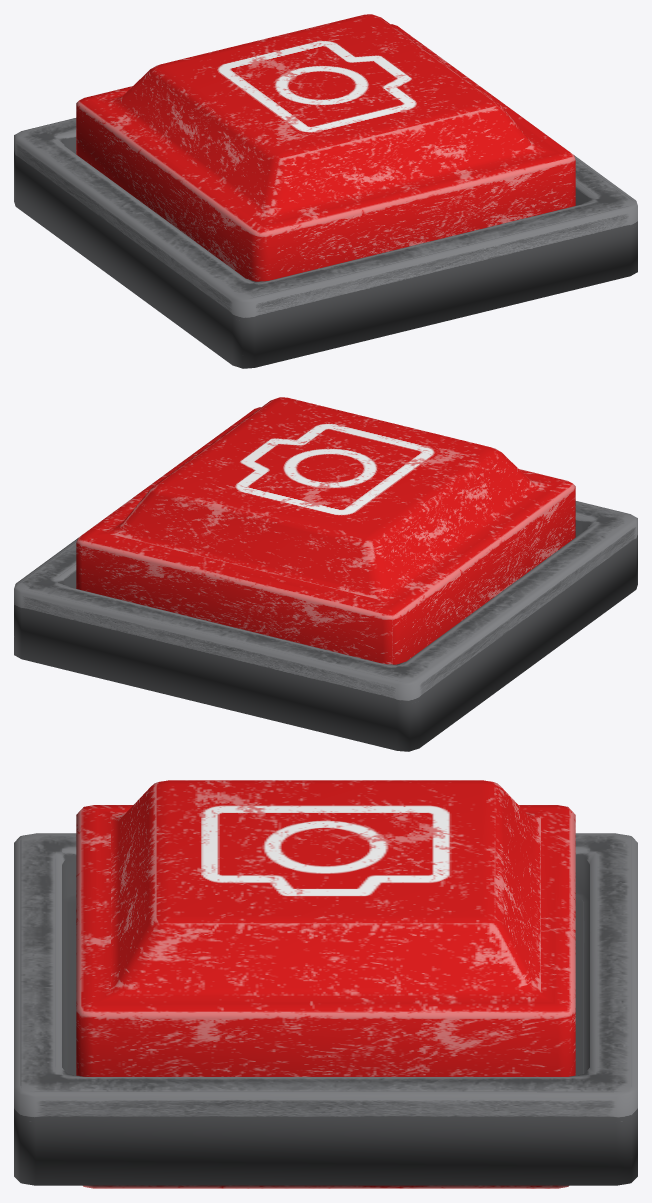
The model's file is PrtSc1.fbx.
3 renders of one model, top to bottom at view 1: azimuth 30°, elevation 25°; view 2: azimuth 150°, elevation 25°; view 3: azimuth 270°, elevation 25°, orthographic. The views are drawn at different scales.
Parts seen in each view (by area): view 1: Cube.021, Cube.022; view 2: Cube.021, Cube.022; view 3: Cube.021, Cube.022.
Part boxes in pixels (box(x1,y1,x2,y2)): Cube.021: box(76, 14, 575, 281); Cube.022: box(14, 118, 637, 368); Cube.021: box(76, 397, 575, 664); Cube.022: box(14, 501, 637, 751); Cube.021: box(76, 780, 575, 1188); Cube.022: box(14, 833, 637, 1185).
Bounding box in the file's own units: 18.98 × 7.96 × 18.98.
